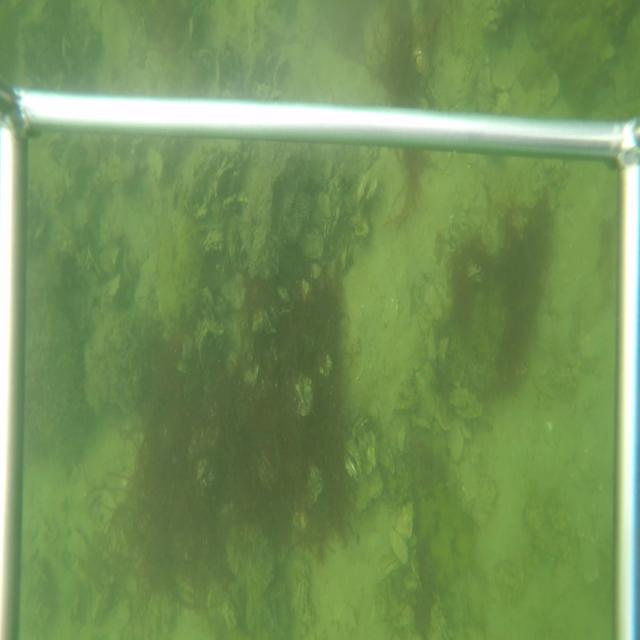Oyster-Indeterminate: (389, 528, 409, 564), (195, 206, 208, 221)
Oyster-Open: (356, 168, 379, 211), (345, 441, 364, 483), (222, 193, 239, 212)
